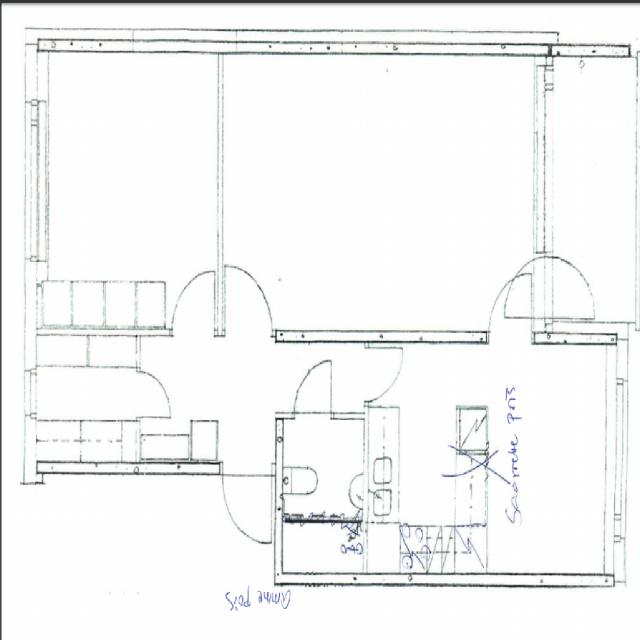door: (222, 460, 271, 546), (497, 256, 552, 315), (538, 256, 593, 315), (172, 272, 213, 342), (294, 358, 332, 419), (364, 348, 406, 400), (136, 372, 171, 416)
